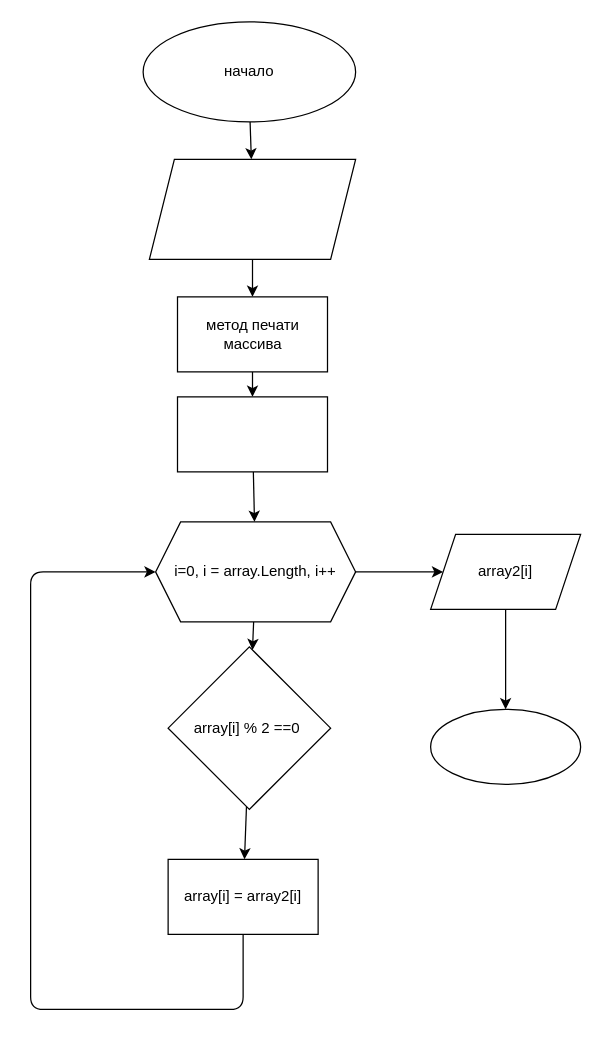
The diagram is 603 pixels wide and 1041 high, and some of its shapes have lost their labels. Here are the shapes that lost their labels. From the top down, the centre of each, then its label:
(x=252, y=208): массив int [i] array int[i] array2
(x=252, y=434): метод заполнения массива
(x=505, y=746): rконец
